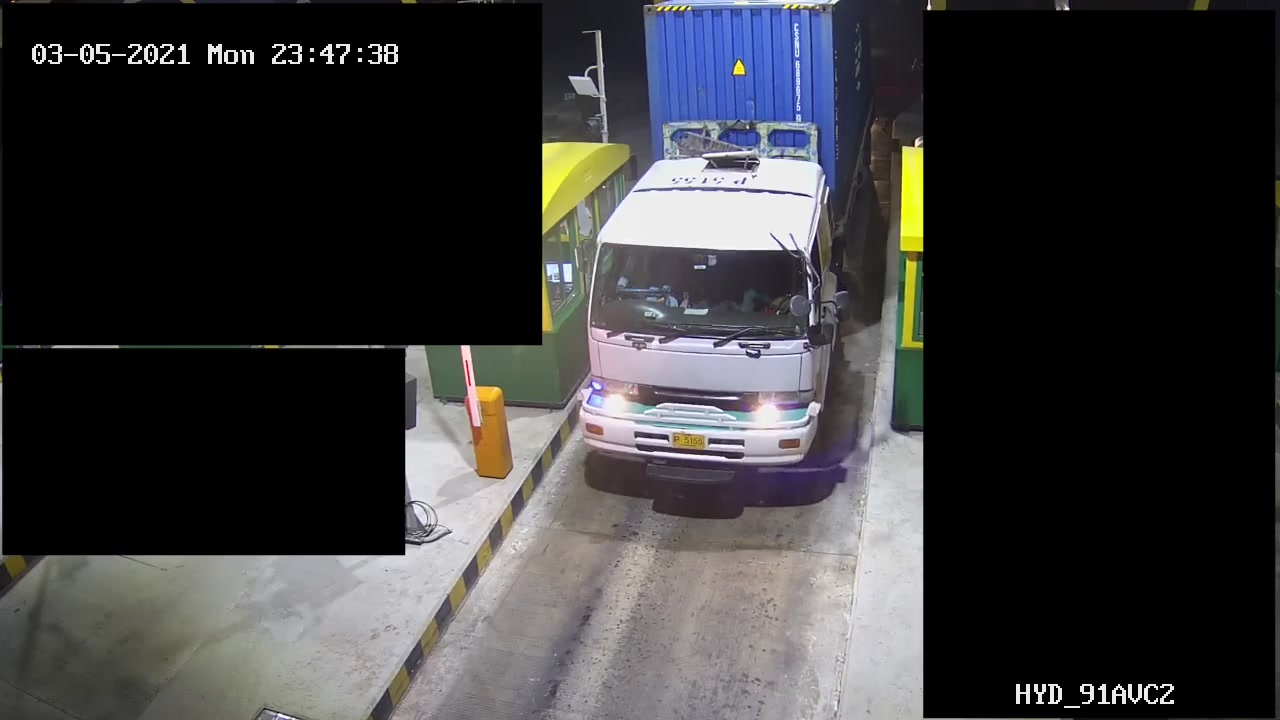F6: (564, 1, 886, 485)
